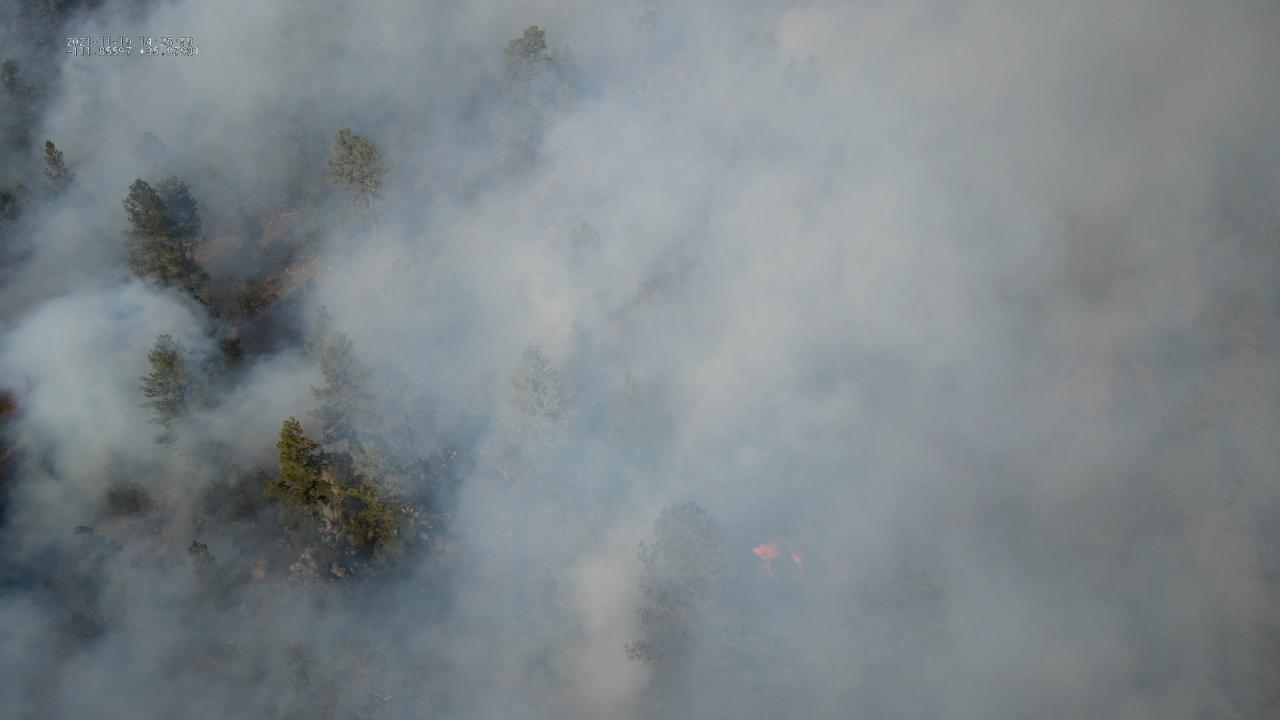fire: (751, 540, 777, 579), (791, 553, 806, 571)
smoke: (0, 0, 1280, 720)
